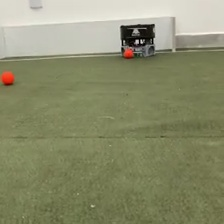ball: (1, 68, 15, 85), (123, 48, 133, 57)
goal: (1, 12, 178, 60)
robot: (119, 21, 156, 57)
